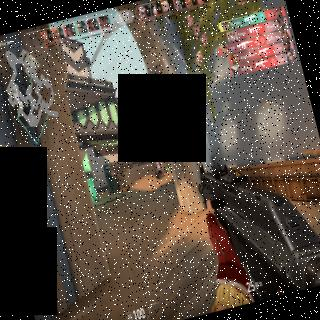ENEMY-BODY: (155, 160, 163, 178)
ENEMY-HEAD: (156, 162, 158, 164)
